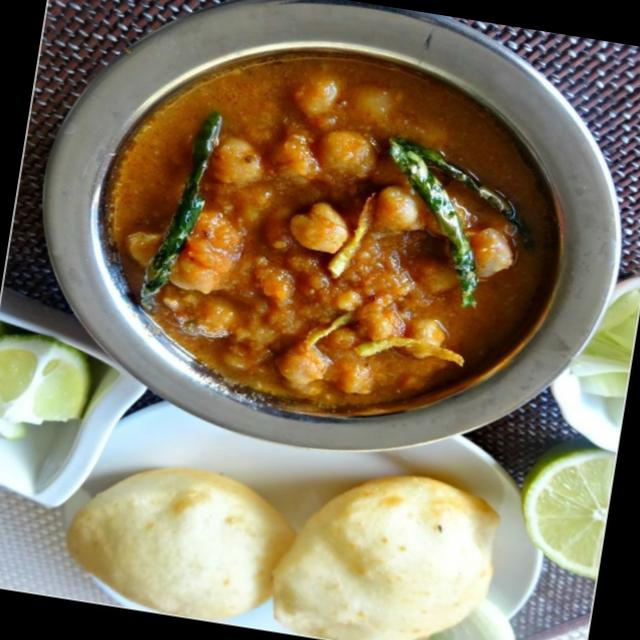Bhatura: (57, 452, 302, 631), (265, 458, 504, 640)
Chole: (84, 22, 586, 436)
